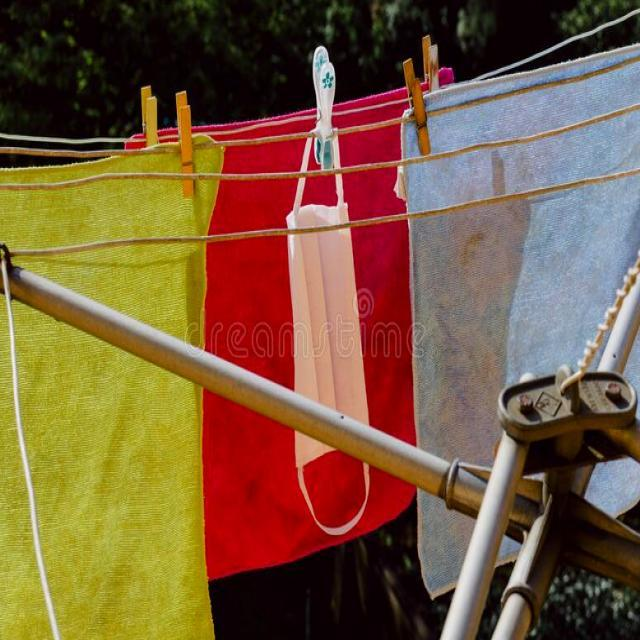clothes: (285, 285, 538, 367)
